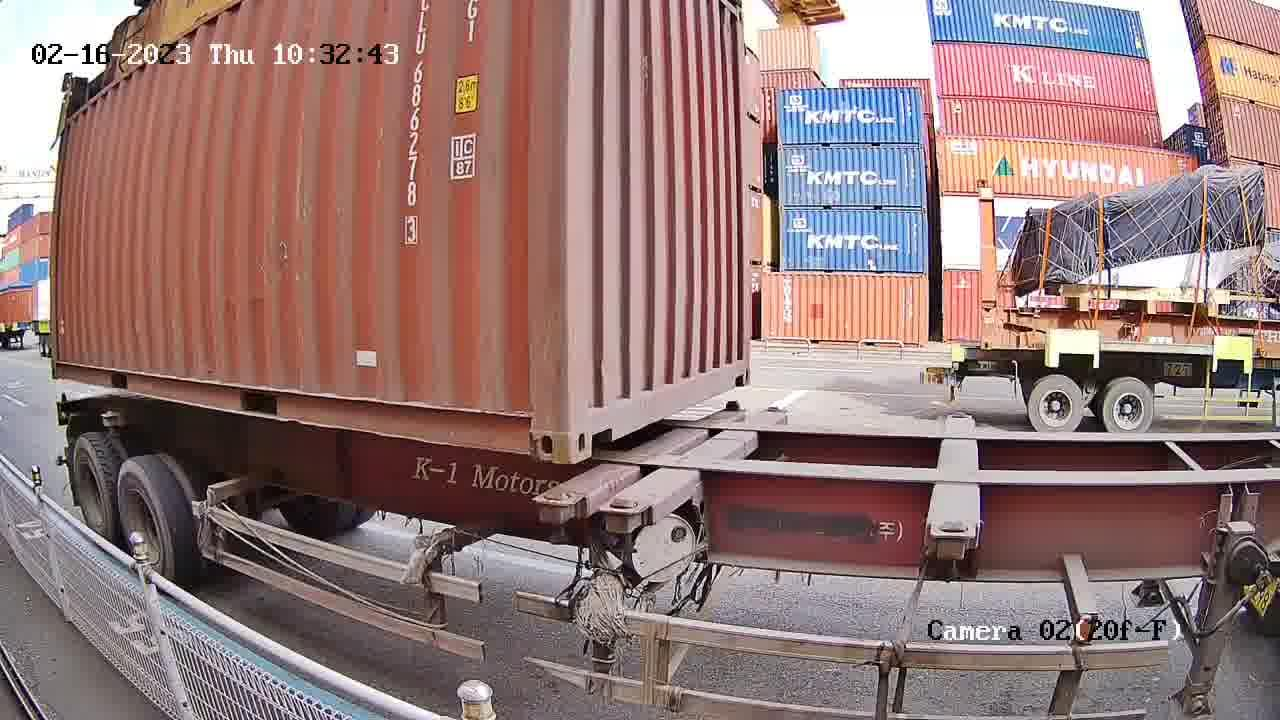Chassis: (601, 403, 792, 538), (536, 403, 747, 514)
Cone: (532, 485, 585, 547), (600, 494, 647, 559), (724, 400, 743, 412)
Hole_L: (569, 376, 623, 466)
Hole_R: (489, 389, 568, 464), (722, 338, 753, 389)
Tire: (117, 471, 166, 569), (73, 443, 108, 528)
